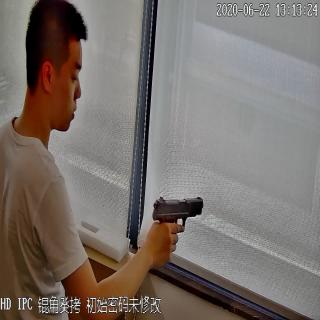gun: (148, 188, 204, 268)
